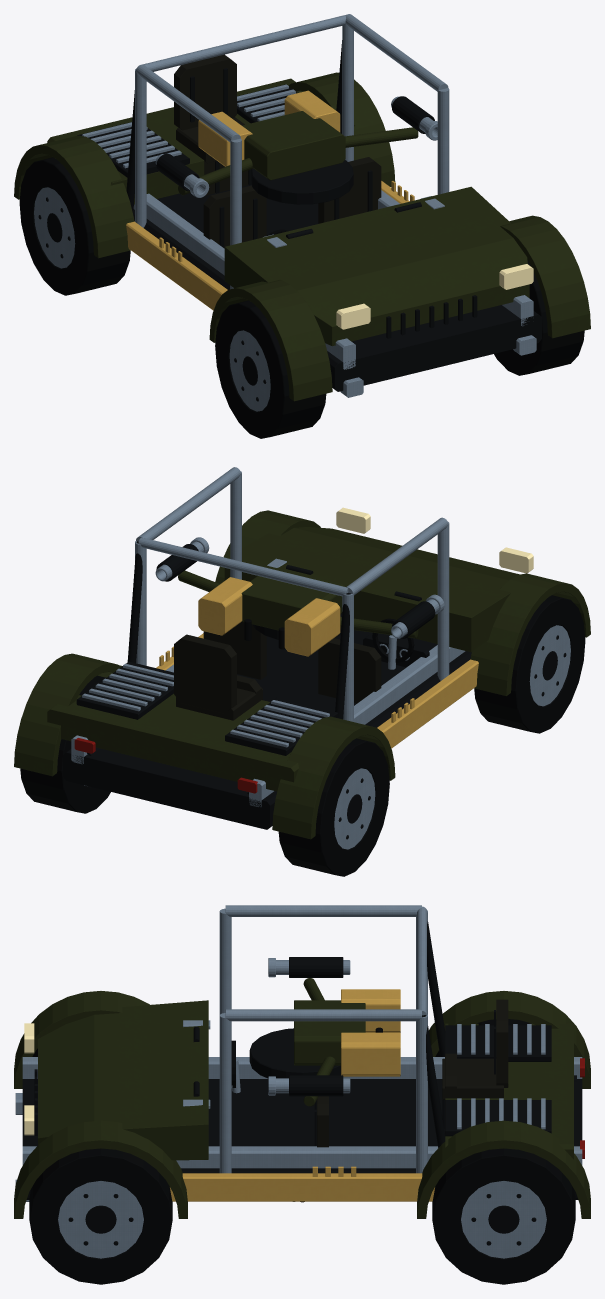
Rendered from puma-lod0.glb.
3 renders of one model, top to bottom at view 1: azimuth 30°, elevation 25°; view 2: azimuth 150°, elevation 25°; view 3: azimuth 270°, elevation 25°, orthographic. The views are drawn at different scales.
Visible parts, largest first — view 1: body, turret, wheel_1, wheel_0, wheel_3; view 2: body, turret, wheel_0, wheel_1, wheel_2; view 3: body, wheel_2, wheel_3, turret.
Part boxes in pixels (<box>): body: <box>14,14,590,401</box>; turret: <box>155,90,437,204</box>; wheel_1: <box>215,300,326,438</box>; wheel_0: <box>19,157,130,295</box>; wheel_3: <box>494,260,584,375</box>; body: <box>14,467,590,839</box>; turret: <box>155,537,444,656</box>; wheel_0: <box>278,738,389,876</box>; wheel_1: <box>474,595,585,733</box>; wheel_2: <box>20,675,110,813</box>; body: <box>14,905,590,1218</box>; wheel_2: <box>432,1148,575,1284</box>; wheel_3: <box>29,1148,172,1284</box>; turret: <box>249,957,400,1106</box>.
Bounding box in the file's own units: 2.1 × 1.62 × 3.38.
Materials: 8 (7 with a texture image).
